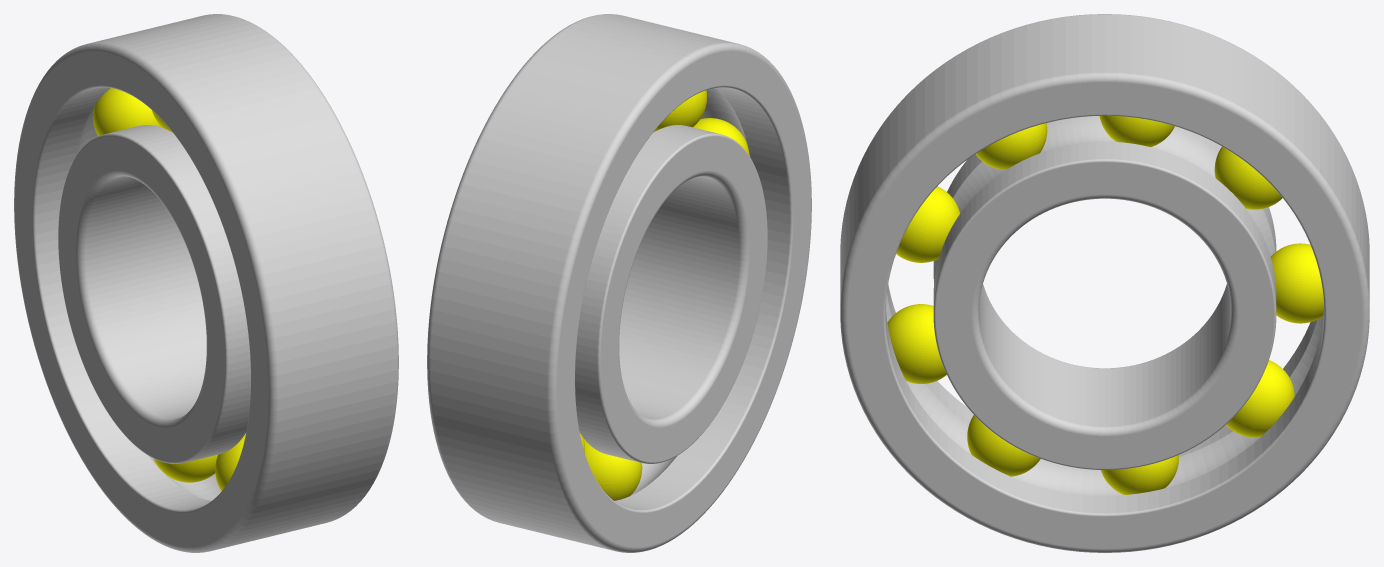
File: model_web.glb
3 views of the same model, side by side, from view 1: azimuth 30°, elevation 25°; view 2: azimuth 150°, elevation 25°; view 3: azimuth 270°, elevation 25° (orthographic).
Parts seen in each view (by area): view 1: Node1, Node2; view 2: Node1, Node2; view 3: Node1, Node2.
Boxes of the visible parts, box(x1,y1,x2,y2) form: Node1: box(14, 14, 398, 552); Node2: box(93, 88, 245, 491); Node1: box(427, 14, 811, 552); Node2: box(580, 90, 749, 500); Node1: box(840, 14, 1369, 552); Node2: box(887, 115, 1323, 494).
Bounding box in the file's own units: 12 × 42 × 41.99.
